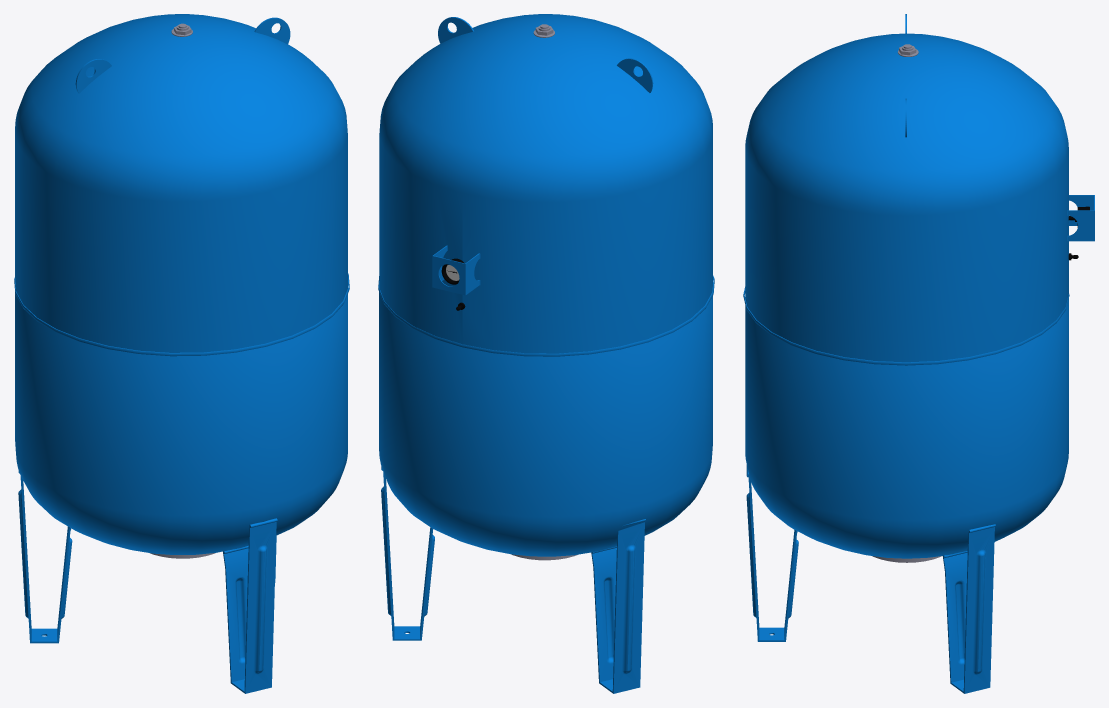
The model's file is 500-hareketli-manometreli-dik-ayakli.fbx.
The picture shows the model from 3 angles, left to right: view 1: azimuth 30°, elevation 25°; view 2: azimuth 150°, elevation 25°; view 3: azimuth 270°, elevation 25°; orthographic projection. The views are drawn at different scales.
Parts seen in each view (by area): view 1: 500-hareketli-manometreli-dik-ayaklı.005, 500-hareketli-manometreli-dik-ayaklı.004, 500-hareketli-manometreli-dik-ayaklı.024, 500-hareketli-manometreli-dik-ayaklı, 500-hareketli-manometreli-dik-ayaklı.007, 500-hareketli-manometreli-dik-ayaklı.003, 500-hareketli-manometreli-dik-ayaklı.002; view 2: 500-hareketli-manometreli-dik-ayaklı.005, 500-hareketli-manometreli-dik-ayaklı.004, 500-hareketli-manometreli-dik-ayaklı, 500-hareketli-manometreli-dik-ayaklı.025, 500-hareketli-manometreli-dik-ayaklı.007, 500-hareketli-manometreli-dik-ayaklı.001, 500-hareketli-manometreli-dik-ayaklı.003, 500-hareketli-manometreli-dik-ayaklı.002; view 3: 500-hareketli-manometreli-dik-ayaklı.005, 500-hareketli-manometreli-dik-ayaklı.004, 500-hareketli-manometreli-dik-ayaklı.025, 500-hareketli-manometreli-dik-ayaklı.024, 500-hareketli-manometreli-dik-ayaklı.007, 500-hareketli-manometreli-dik-ayaklı.001.
Boxes of the visible parts, x1,y1,x2,y2 form: 500-hareketli-manometreli-dik-ayaklı.005: [15, 14, 347, 352]; 500-hareketli-manometreli-dik-ayaklı.004: [15, 293, 347, 554]; 500-hareketli-manometreli-dik-ayaklı.024: [223, 522, 276, 693]; 500-hareketli-manometreli-dik-ayaklı: [18, 476, 72, 643]; 500-hareketli-manometreli-dik-ayaklı.007: [14, 273, 349, 356]; 500-hareketli-manometreli-dik-ayaklı.003: [75, 59, 111, 93]; 500-hareketli-manometreli-dik-ayaklı.002: [254, 17, 290, 44]; 500-hareketli-manometreli-dik-ayaklı.005: [379, 14, 712, 353]; 500-hareketli-manometreli-dik-ayaklı.004: [379, 284, 712, 556]; 500-hareketli-manometreli-dik-ayaklı: [591, 522, 644, 693]; 500-hareketli-manometreli-dik-ayaklı.025: [381, 472, 434, 640]; 500-hareketli-manometreli-dik-ayaklı.007: [378, 275, 714, 356]; 500-hareketli-manometreli-dik-ayaklı.001: [432, 245, 479, 295]; 500-hareketli-manometreli-dik-ayaklı.003: [617, 58, 653, 92]; 500-hareketli-manometreli-dik-ayaklı.002: [438, 17, 473, 43]; 500-hareketli-manometreli-dik-ayaklı.005: [745, 33, 1068, 362]; 500-hareketli-manometreli-dik-ayaklı.004: [745, 297, 1068, 558]; 500-hareketli-manometreli-dik-ayaklı.025: [943, 527, 994, 693]; 500-hareketli-manometreli-dik-ayaklı.024: [746, 477, 798, 641]; 500-hareketli-manometreli-dik-ayaklı.007: [743, 287, 1069, 365]; 500-hareketli-manometreli-dik-ayaklı.001: [1067, 195, 1094, 241].
Bounding box in the file's own units: 1436 × 2866 × 1547.
